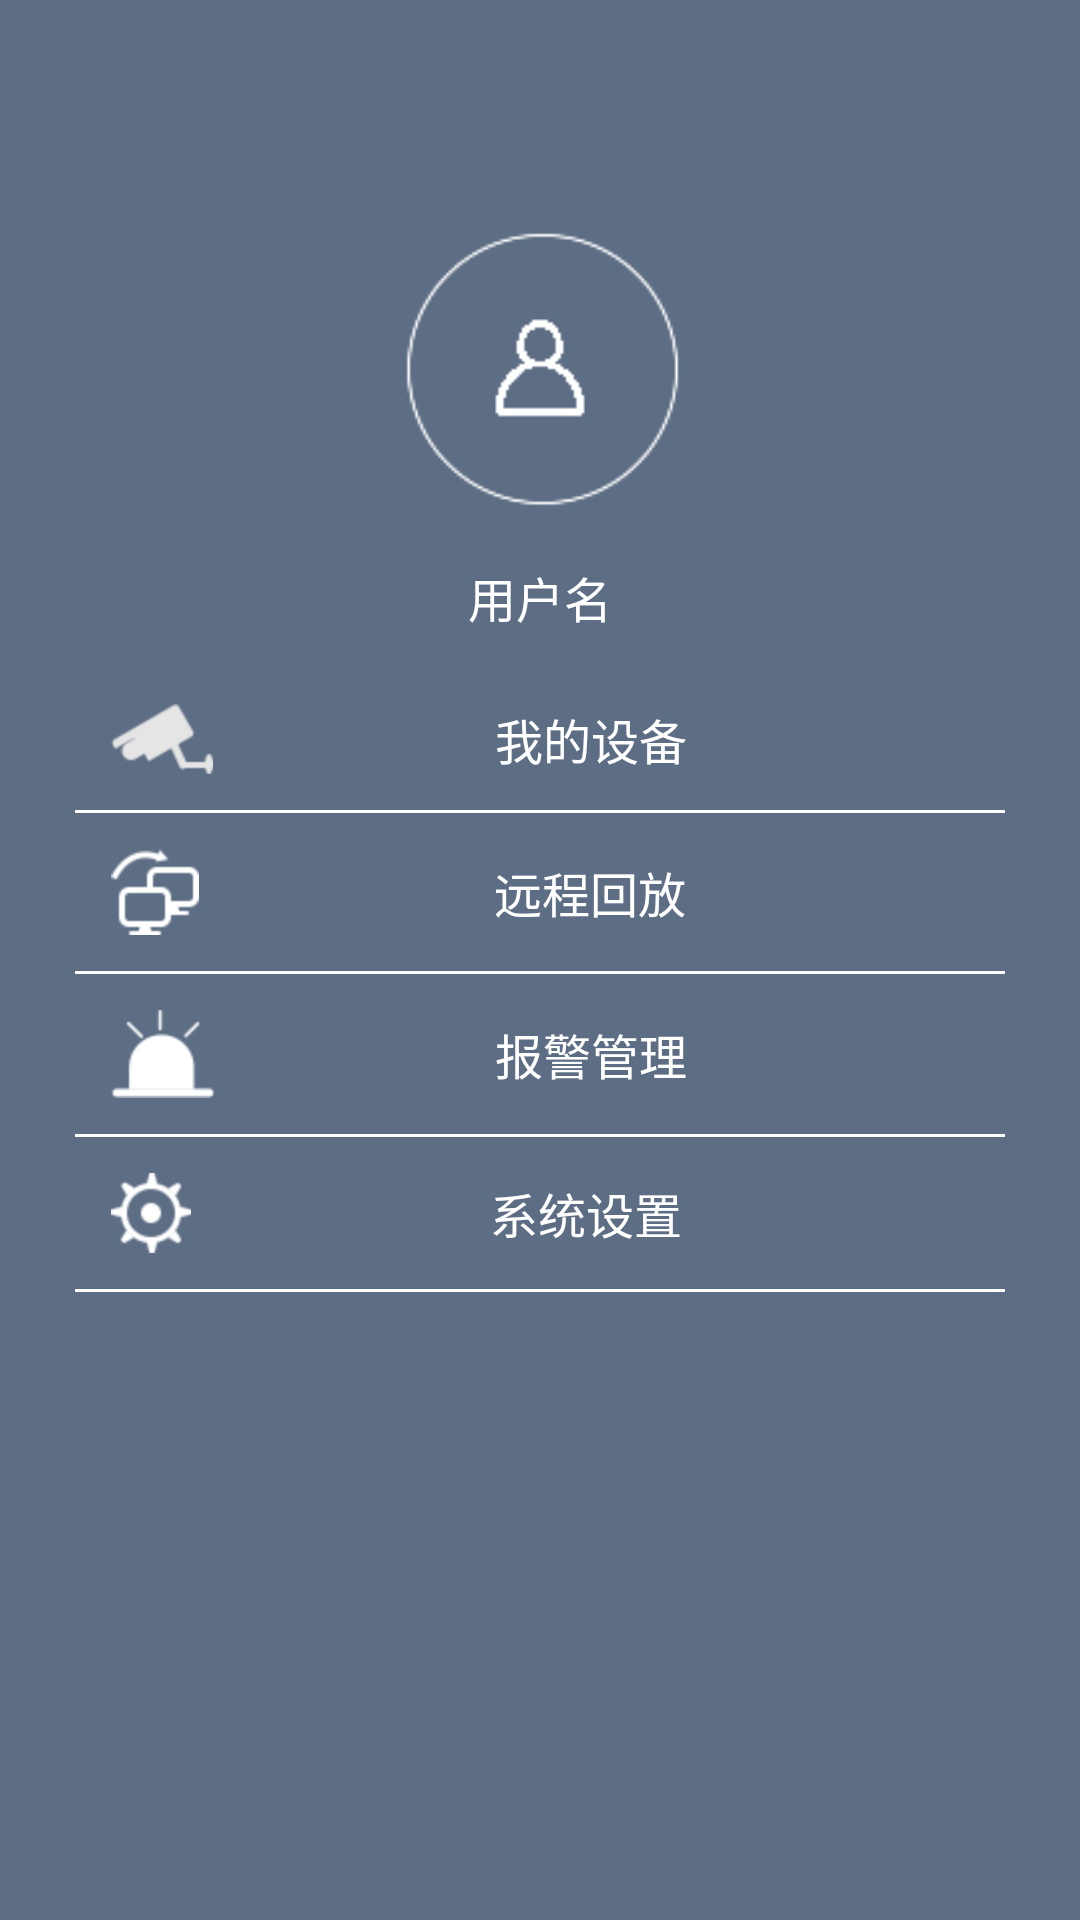

Where icons sit on this 1080px×1920px app screen, as (left=x1, top=y1, right=x2, bottom=y2):
account: (left=406, top=233, right=679, bottom=505)
